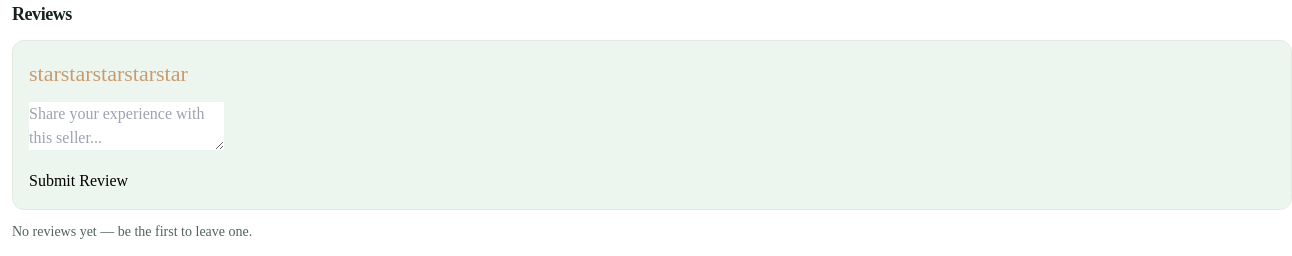
Scenario: SellerReviews › lets a signed-in customer submit a review directly (no toggle button), which then appears in the list
Type "Great seller!" into the text box with placeholder "Share your experience with this seller..." at [126, 126], box 29,102 -> 224,150
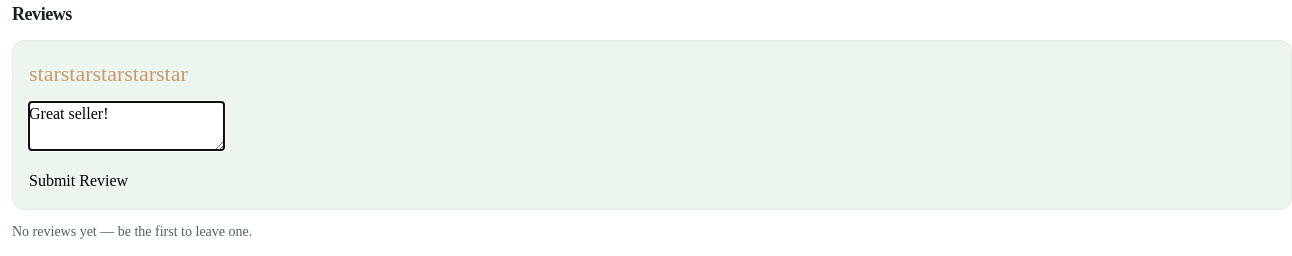
Click the button "Submit Review" at [79, 181], box 29,169 -> 128,193
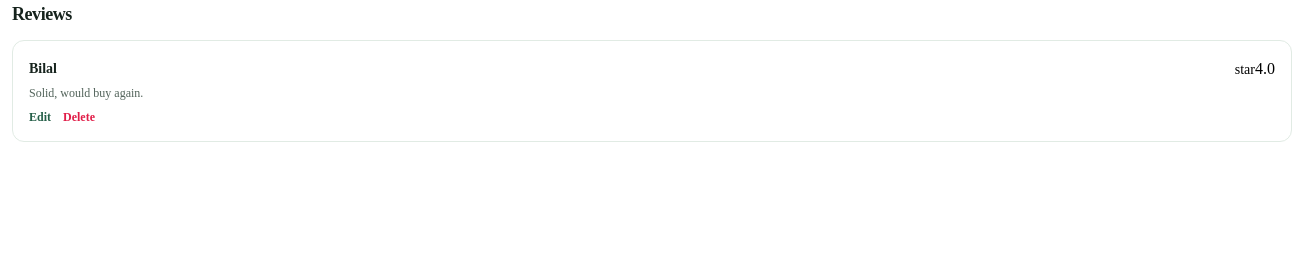
expect the field with placeholder "Share your experience with this seller..." is not shown: met
expect the text "Bilal" is shown: met, box 29,59 -> 57,79
expect the text "Solid, would buy again." is shown: met, box 29,86 -> 143,100
